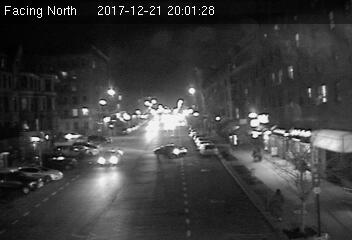car: (97, 150, 123, 165), (199, 143, 218, 156)
